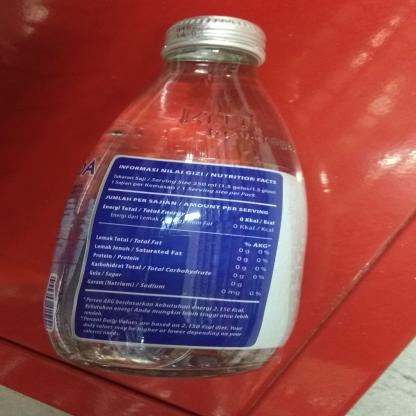glass: (35, 12, 308, 381)
